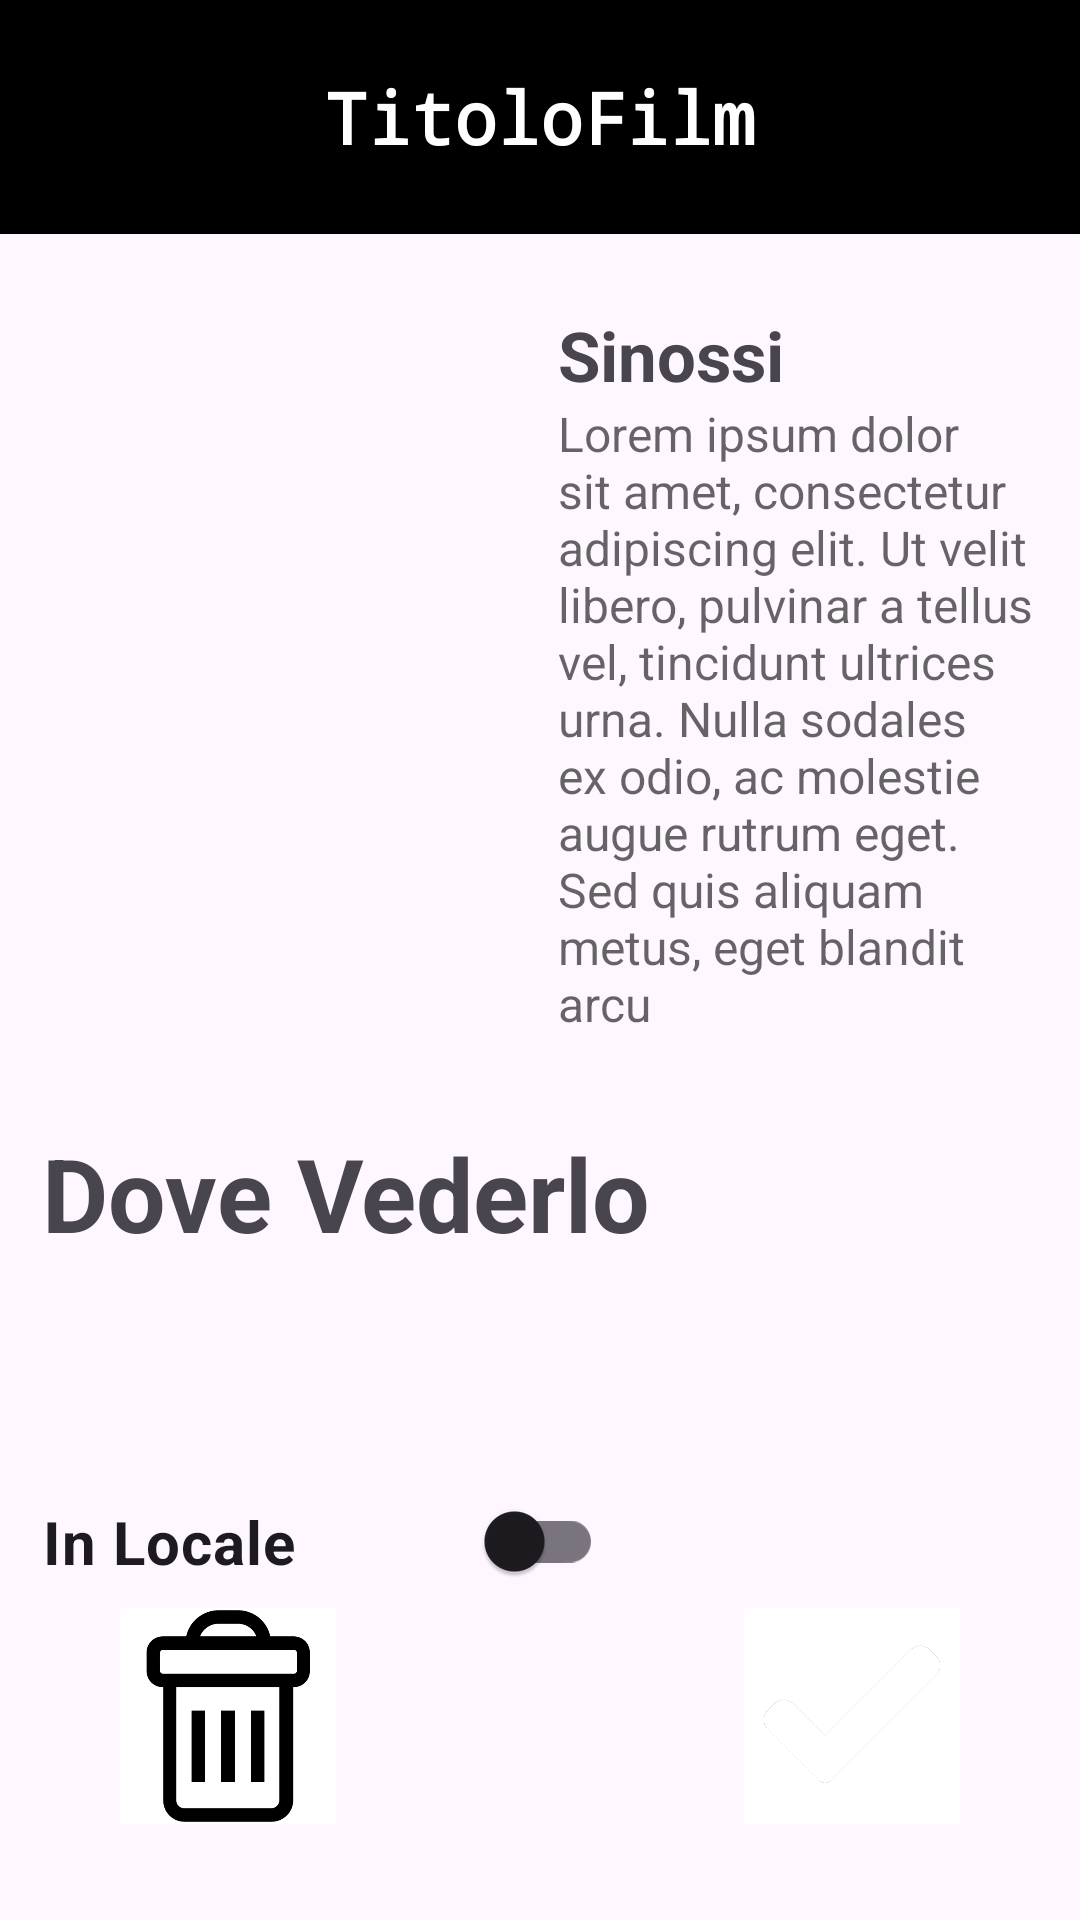

Locate icon controls on the screen. Image size 1080px x 1920px, boxes as (x1, y1, x2, y2).
Button to remove media from DB: (146, 1610, 310, 1822)
